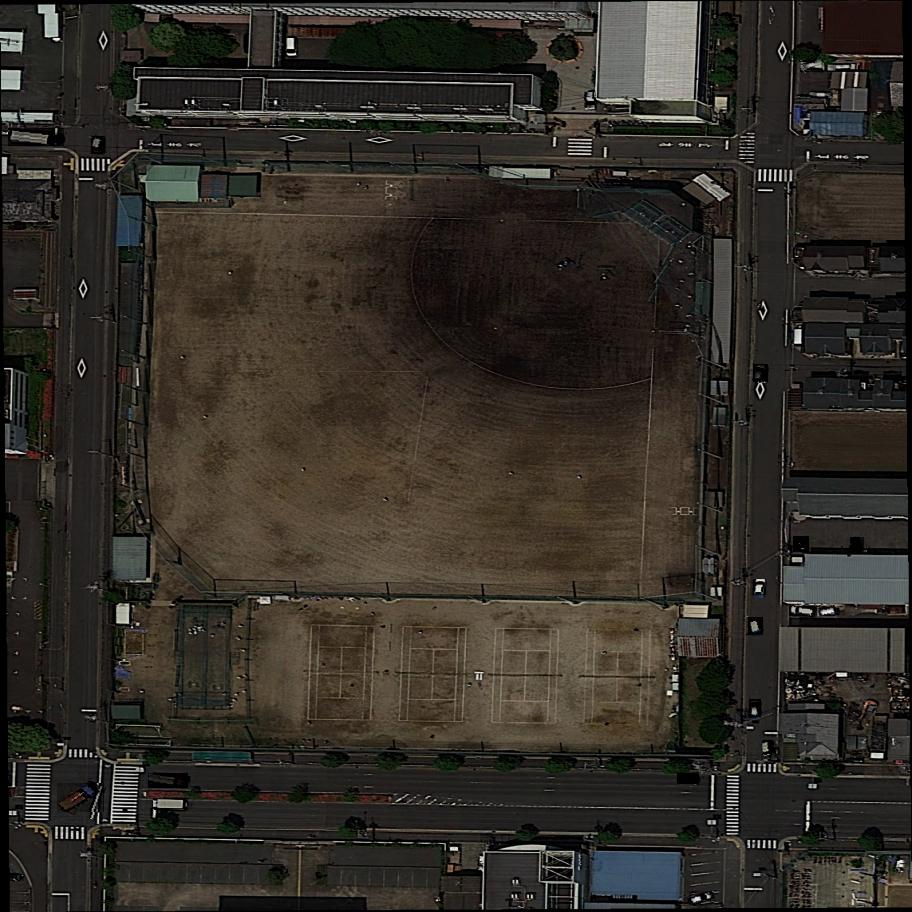large-vehicle: (58, 782, 104, 815), (9, 127, 65, 147), (148, 773, 189, 788), (154, 799, 188, 810)
small-vehicle: (690, 891, 715, 907), (800, 60, 824, 74), (794, 535, 810, 555), (748, 618, 764, 636), (817, 605, 839, 618), (790, 606, 816, 617), (850, 536, 865, 555), (92, 136, 107, 154), (753, 365, 768, 383), (677, 773, 699, 785), (749, 700, 762, 718), (753, 580, 766, 596), (585, 93, 596, 106), (762, 741, 771, 756)
